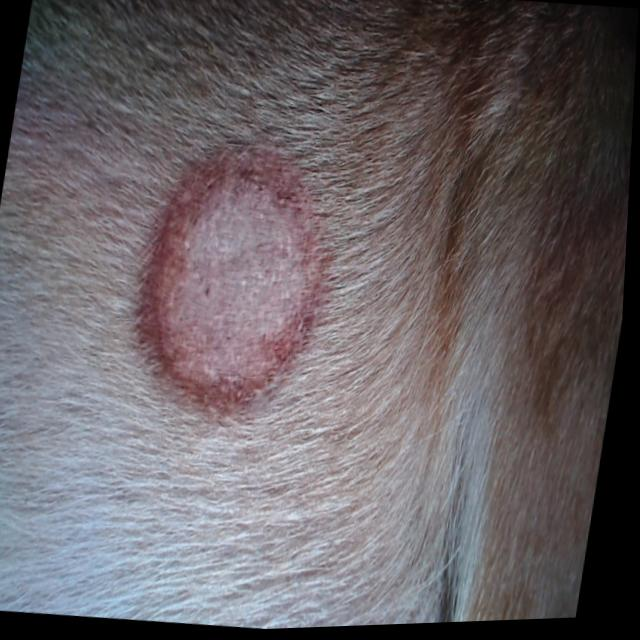ringworm: (112, 134, 362, 418)
